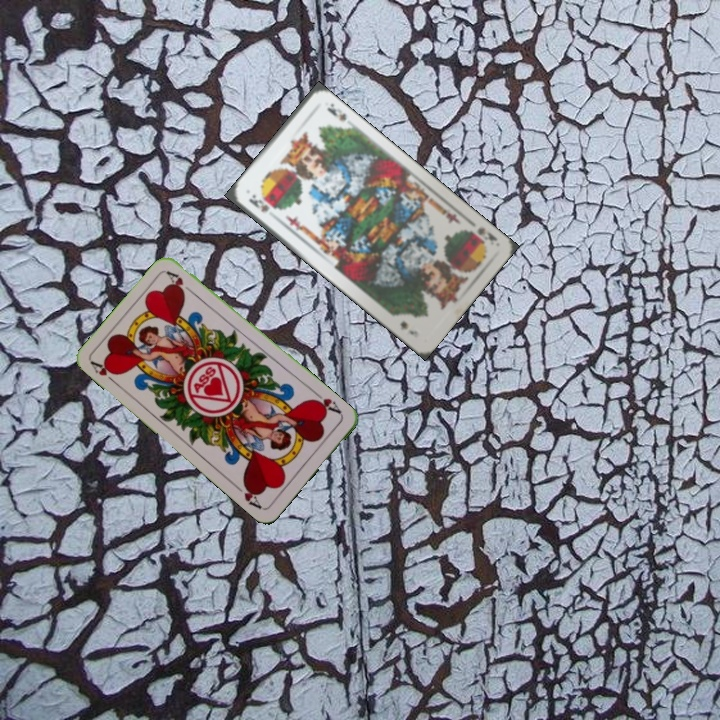HA: (307, 388, 344, 418), (87, 357, 121, 388)
SK: (245, 190, 272, 215), (473, 223, 500, 244)
